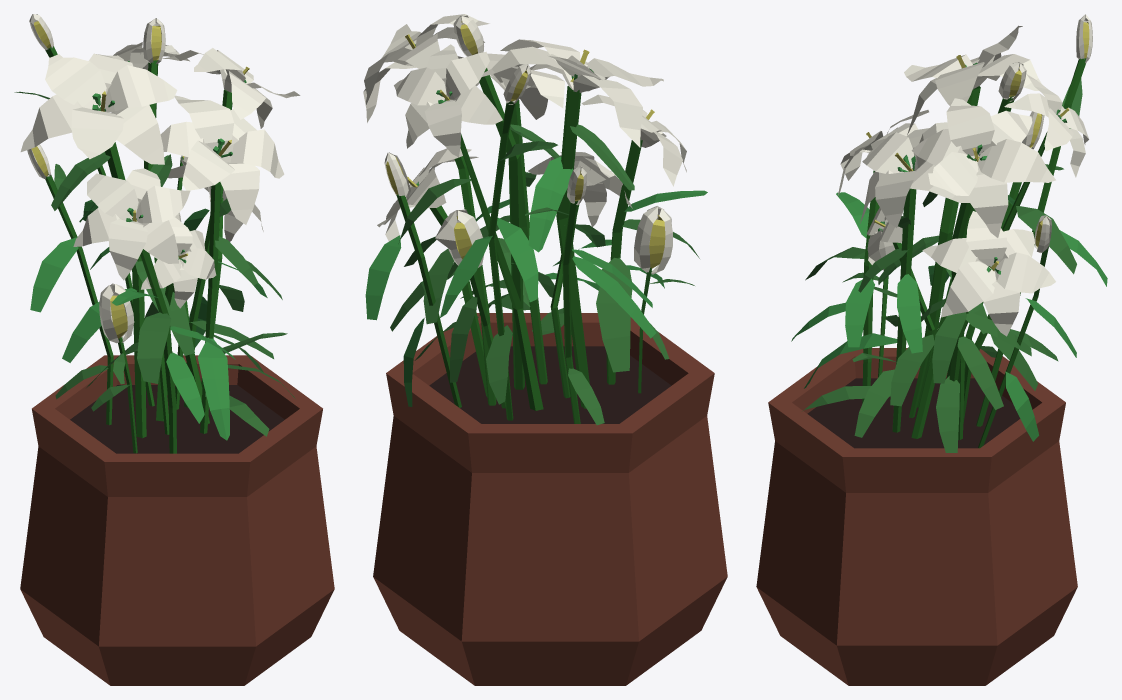
File: whiteFlower.glb
3 renders of one model, left to right at view 1: azimuth 30°, elevation 25°; view 2: azimuth 150°, elevation 25°; view 3: azimuth 270°, elevation 25°, orthographic. The views are drawn at different scales.
Parts seen in each view (by area): view 1: Flower04PlantPot, Flower04Plant; view 2: Flower04PlantPot, Flower04Plant; view 3: Flower04PlantPot, Flower04Plant.
Boxes of the visible parts, box(x1,y1,x2,y2) form: Flower04PlantPot: box(20, 355, 334, 685); Flower04Plant: box(14, 14, 300, 453); Flower04PlantPot: box(373, 313, 727, 685); Flower04Plant: box(363, 14, 707, 425); Flower04PlantPot: box(756, 348, 1077, 685); Flower04Plant: box(791, 14, 1107, 452).
Bounding box in the file's own units: 0.5241 × 1.16 × 0.6267.
